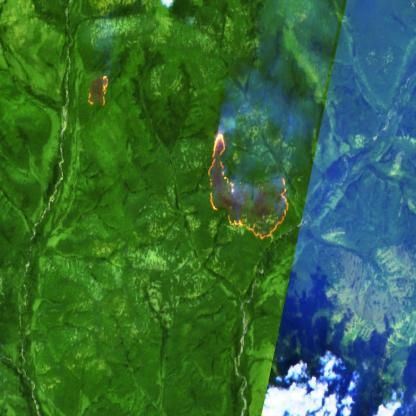fire: (204, 129, 293, 240), (82, 69, 112, 110)
